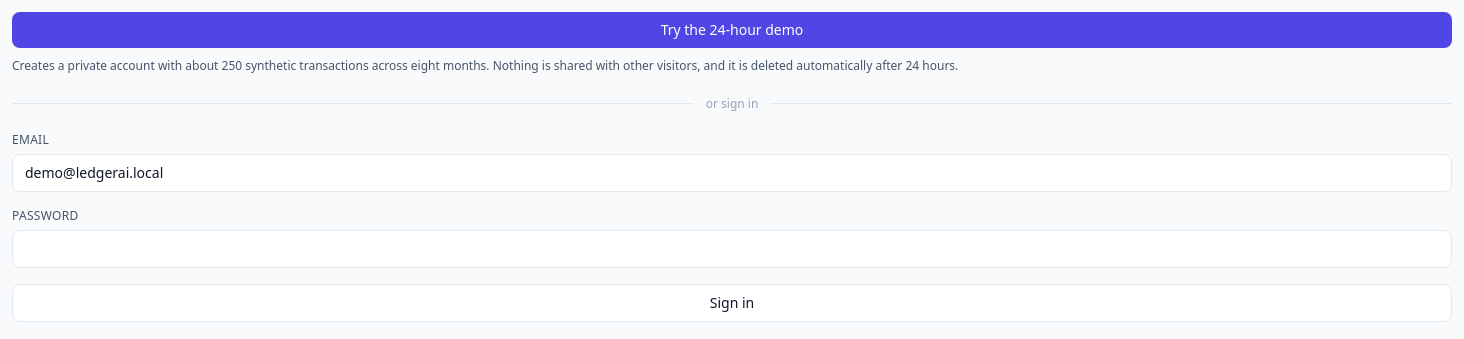
demo entry › shows progress while the account is being built
The width and height of the screenshot is (1464, 339).
Click the button "Try the 24-hour demo". click: (732, 30)
box: [12, 12, 1452, 48]
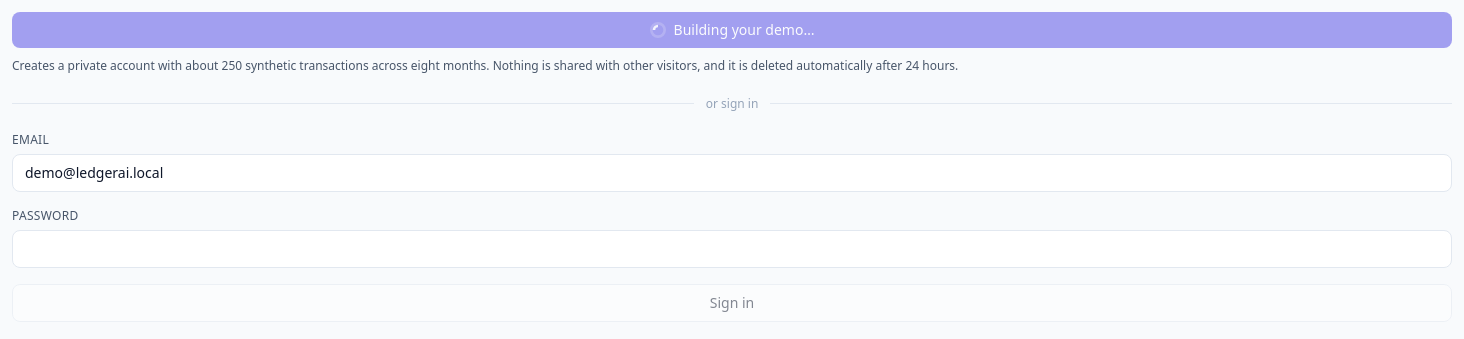
Result: the button "Building your demo…" is shown at [12, 12, 1452, 48]
